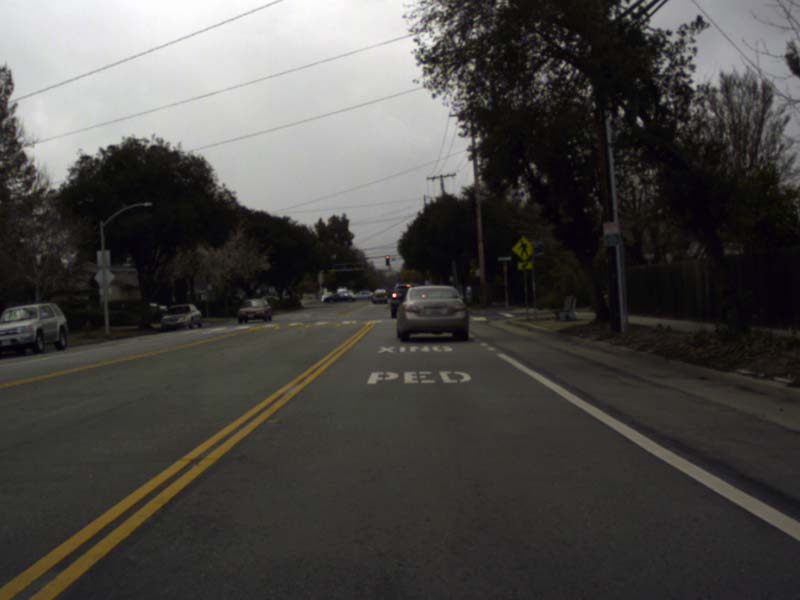Red: (385, 255, 389, 265)
